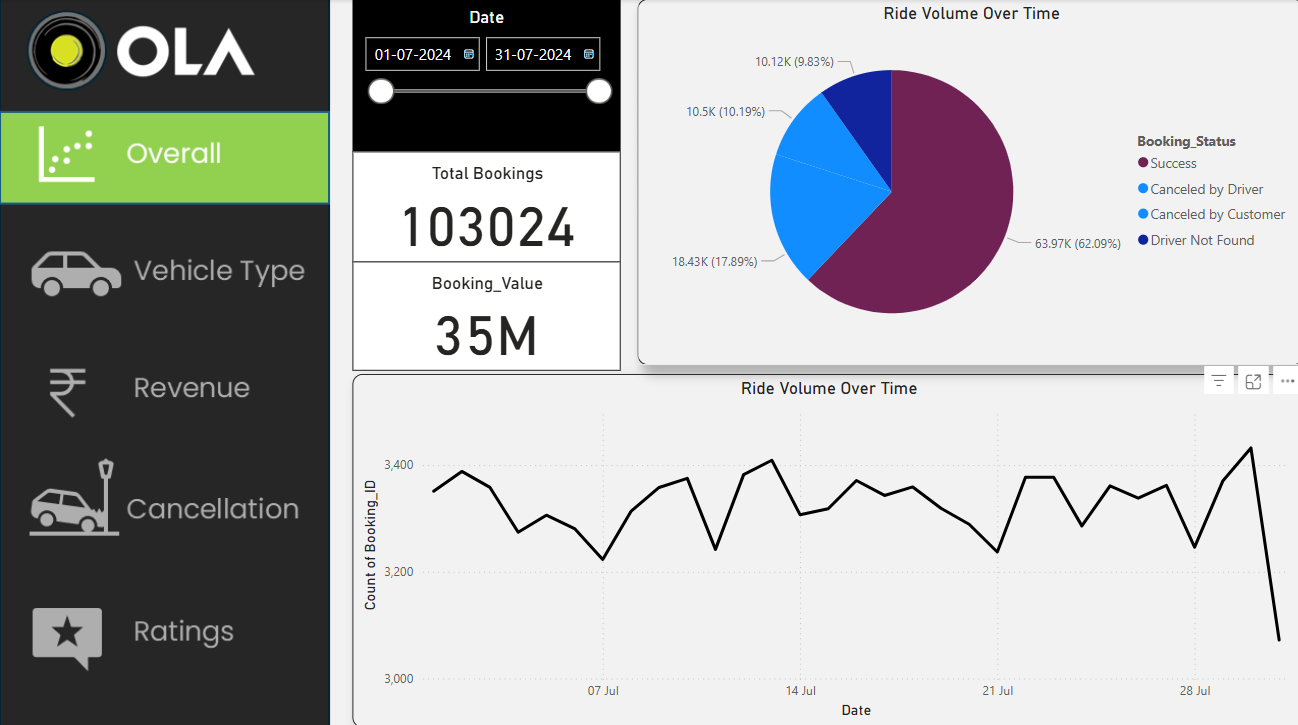

What the dashboard file says about the page in this screenshot:
{"tool":"powerbi","page":{"name":"Overall","canvas":[1280,720],"ordinal":0},"visuals":[{"type":"actionButton","box":[0,222.3,322.5,91.9],"z":0},{"type":"actionButton","box":[0,338.9,322.5,91.9],"z":1000},{"type":"actionButton","box":[0,441.9,322.5,100.2],"z":2000},{"type":"actionButton","box":[0,576.3,322.5,91.9],"z":3000},{"type":"actionButton","box":[0,112.5,322.5,91.9],"z":4000},{"type":"lineChart","title":"Ride Volume Over Time","fields":{"Y":["CountNonNull(July (2).Booking_ID)"],"Category":["July (2).Date"]},"box":[345.8,367.8,934.5,347.2],"z":5000},{"type":"pieChart","title":"Ride Volume Over Time","fields":{"Category":["July (2).Booking_Status"],"Y":["CountNonNull(July (2).Booking_Status)"]},"box":[625.7,0,654.5,359.5],"z":6000},{"type":"slicer","title":"Date","fields":{"Values":["July (2).Date"]},"box":[345.8,0,263.5,149.6],"z":7000},{"type":"card","title":"Total Bookings","fields":{"Values":["CountNonNull(July (2).Booking_ID)"]},"box":[345.8,149.6,263.5,108.4],"z":8000},{"type":"card","title":"Booking_Value","fields":{"Values":["Sum(July (2).Booking_Value)"]},"box":[345.8,258,263.5,107],"z":9000}]}

Visuals, with their boxes on the page's 1280x720 design canvas (x1, y1, x2, y2). These are canvas units, not pixel positions in the 1298x725 screenshot, which may show the page scaled, cropped or inside an application window:
actionButton: 0 222 322 314
actionButton: 0 339 322 431
actionButton: 0 442 322 542
actionButton: 0 576 322 668
actionButton: 0 112 322 204
"Ride Volume Over Time" lineChart: 346 368 1280 715
"Ride Volume Over Time" pieChart: 626 0 1280 360
"Date" slicer: 346 0 609 150
"Total Bookings" card: 346 150 609 258
"Booking_Value" card: 346 258 609 365
